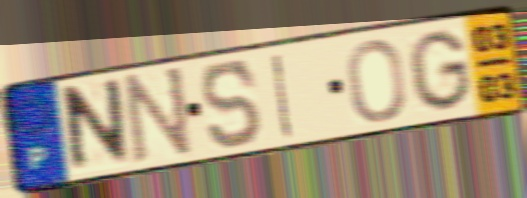G: (405, 28, 474, 114)
I: (270, 50, 296, 142)
N: (124, 62, 195, 167), (63, 74, 133, 179)
O: (344, 37, 409, 126)
S: (199, 57, 266, 152)
